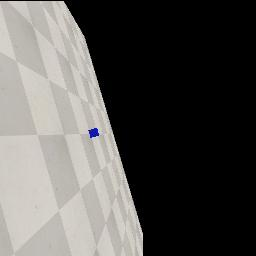box: (88, 128, 99, 138)
